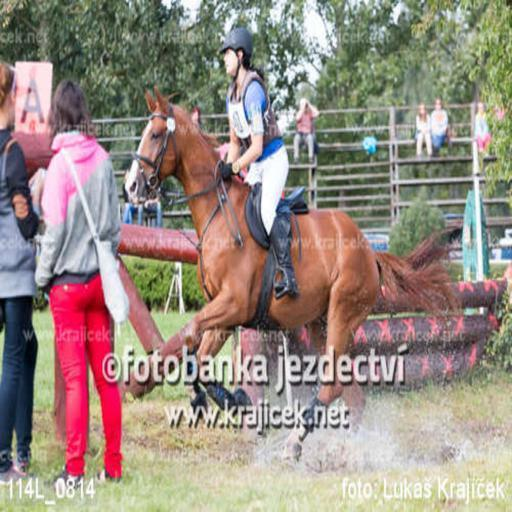horse: (124, 80, 463, 462)
